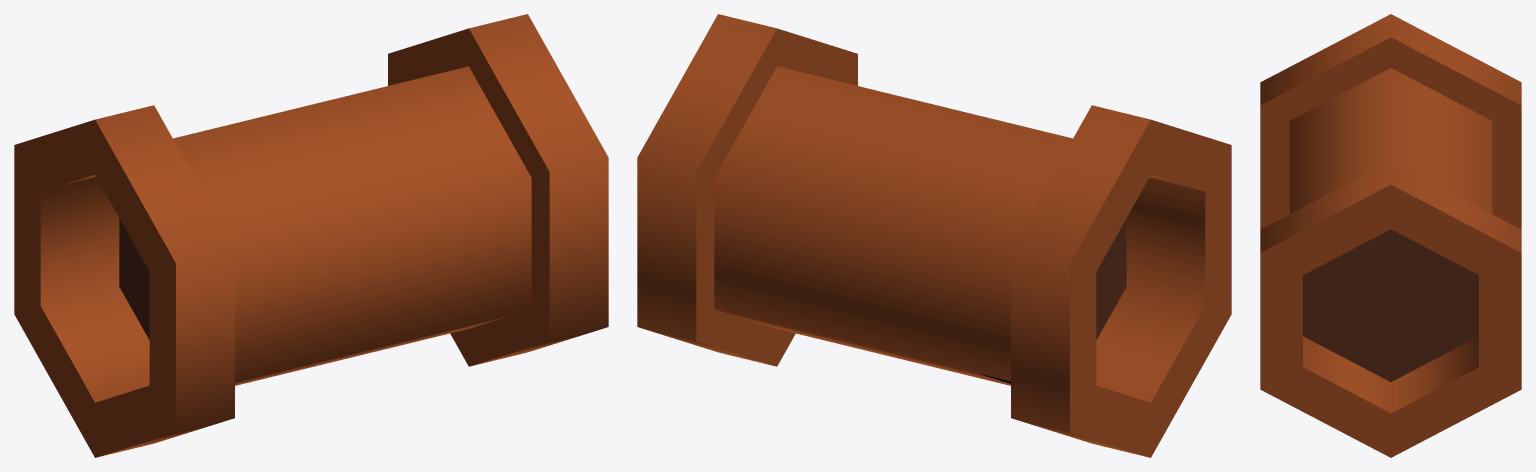
File: GeoThermal_Pipe.fbx
The picture shows the model from 3 angles, left to right: view 1: azimuth 30°, elevation 25°; view 2: azimuth 150°, elevation 25°; view 3: azimuth 270°, elevation 25°; orthographic projection. The views are drawn at different scales.
Visible parts, largest first — view 1: Cylinder136; view 2: Cylinder136; view 3: Cylinder136.
Part boxes in pixels (x1=…): Cylinder136: x1=14, y1=14, x2=608, y2=457; Cylinder136: x1=637, y1=14, x2=1231, y2=457; Cylinder136: x1=1260, y1=14, x2=1521, y2=457.
Size of the model in its own units: 17.47 by 13.05 by 11.3.
1 material, 1 textured.
